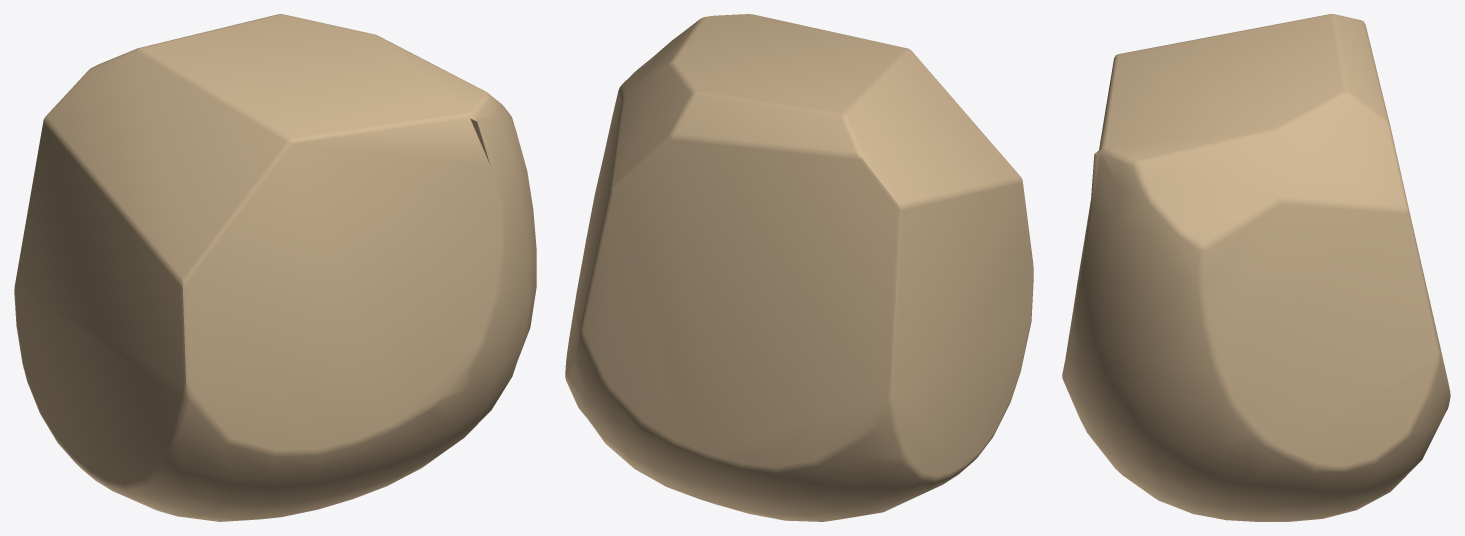
Rendered from landmark_rock.glb.
3 renders of one model, left to right at view 1: azimuth 30°, elevation 25°; view 2: azimuth 150°, elevation 25°; view 3: azimuth 270°, elevation 25°, orthographic. The views are drawn at different scales.
Visible parts, largest first — view 1: landmark_rock; view 2: landmark_rock; view 3: landmark_rock.
Boxes of the visible parts, x1,y1,x2,y2 form: landmark_rock: [14, 14, 536, 521]; landmark_rock: [565, 14, 1033, 521]; landmark_rock: [1062, 14, 1450, 521].
Bounding box in the file's own units: 2.5 × 2.56 × 2.08.
